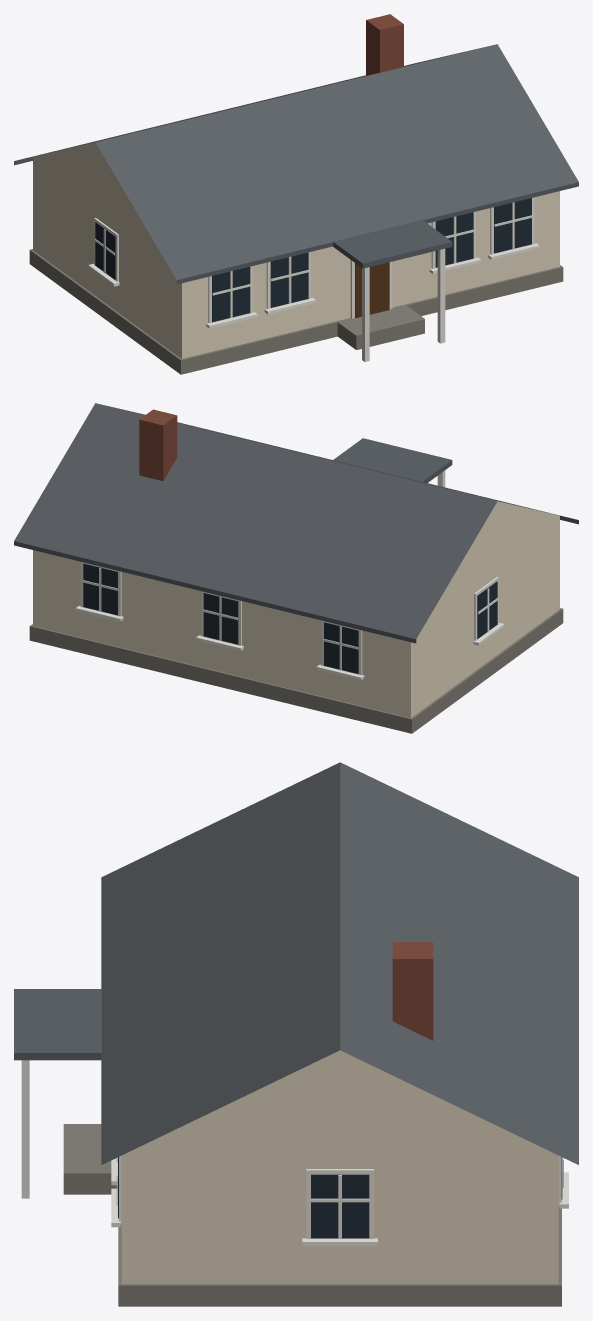
The model's file is house4.glb.
3 renders of one model, top to bottom at view 1: azimuth 30°, elevation 25°; view 2: azimuth 150°, elevation 25°; view 3: azimuth 270°, elevation 25°, orthographic. The views are drawn at different scales.
Parts seen in each view (by area): view 1: house; view 2: house; view 3: house.
Boxes of the visible parts, x1,y1,x2,y2 form: house: (14,14,578,374); house: (14,403,578,733); house: (14,762,578,1306).
Size of the model in its own units: 11.7 by 5.69 by 9.7.
